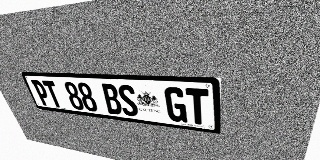8: (76, 82, 99, 112), (63, 81, 85, 110)
B: (100, 83, 123, 115)
G: (164, 87, 187, 123)
P: (31, 80, 52, 106)
S: (116, 84, 140, 117)
T: (185, 88, 209, 126), (42, 80, 64, 108)
